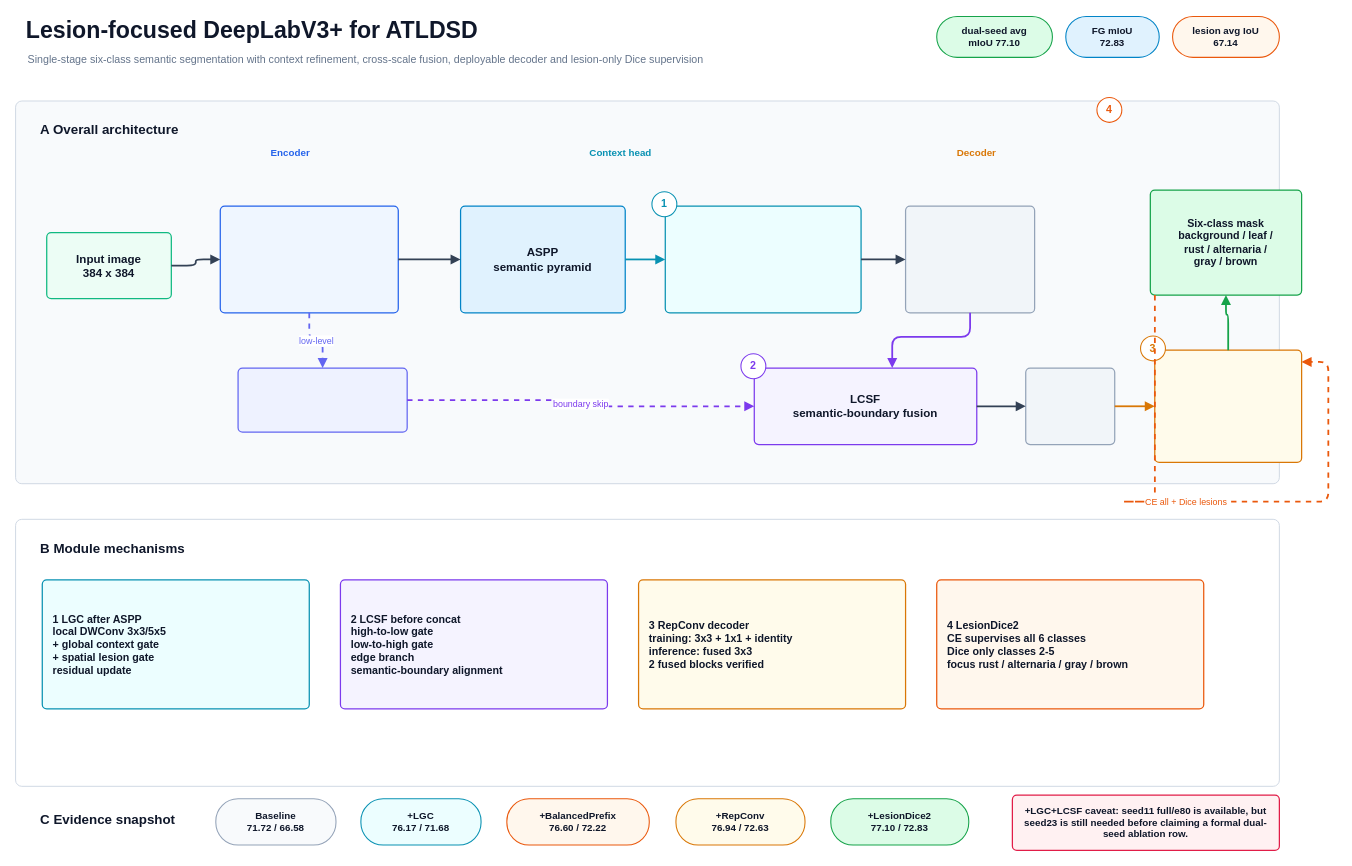
Some shapes in this 1352 by 866 pixel diagram are drawn without their labels. Each missing label, with the centre of its shape:
Concat: the point at 1070,406
LGC local-global lesion context: the point at 762,259
MobileNetV3-Large backbone: the point at 308,259
RepConv decoder train multi-branch fuse to 3x3 conv: the point at 1228,406
Shortcut feature low-level boundary detail: the point at 322,399
Upsample high-level map: the point at 970,259
